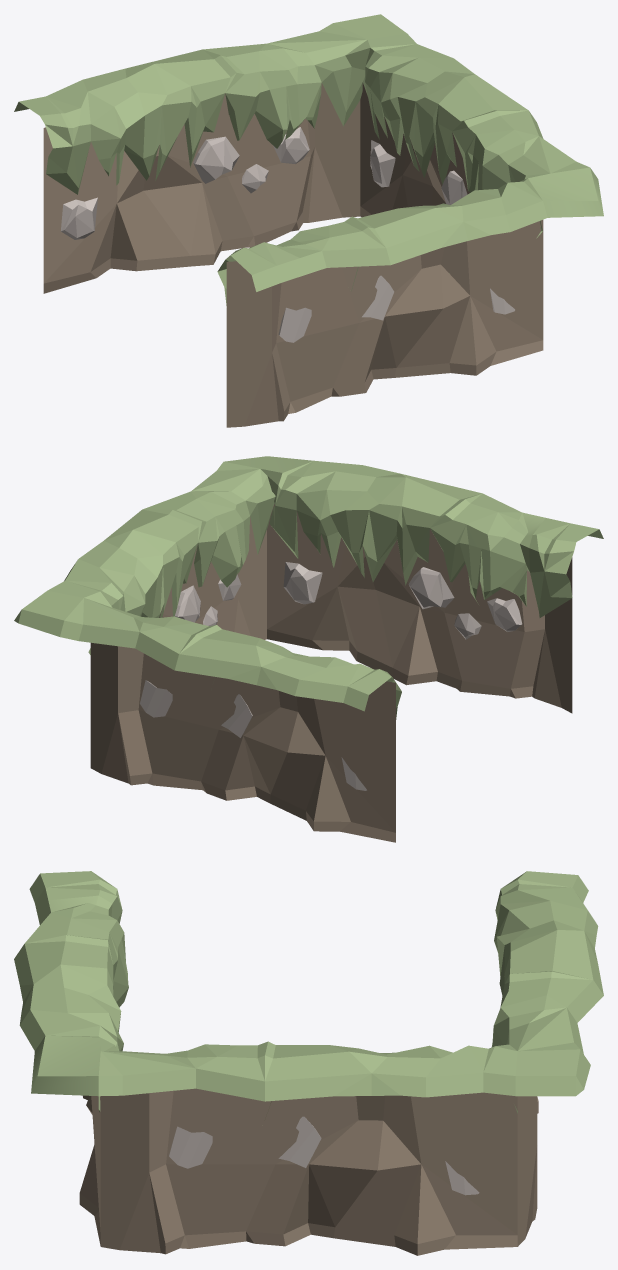
The model's file is ER_Terrain_1x1_GrassCorner_Inverted_Halfsize_001_A2.fbx.
3 renders of one model, top to bottom at view 1: azimuth 30°, elevation 25°; view 2: azimuth 150°, elevation 25°; view 3: azimuth 270°, elevation 25°, orthographic. The views are drawn at different scales.
Visible parts, largest first — view 1: ER_Terrain_1x1_GrassCorner_Inverted_Halfsize_001_A2; view 2: ER_Terrain_1x1_GrassCorner_Inverted_Halfsize_001_A2; view 3: ER_Terrain_1x1_GrassCorner_Inverted_Halfsize_001_A2.
Boxes of the visible parts, x1,y1,x2,y2 form: ER_Terrain_1x1_GrassCorner_Inverted_Halfsize_001_A2: (14, 14, 603, 427); ER_Terrain_1x1_GrassCorner_Inverted_Halfsize_001_A2: (14, 456, 603, 842); ER_Terrain_1x1_GrassCorner_Inverted_Halfsize_001_A2: (14, 871, 603, 1255).
Size of the model in its own units: 1.21 by 0.5611 by 1.41.
